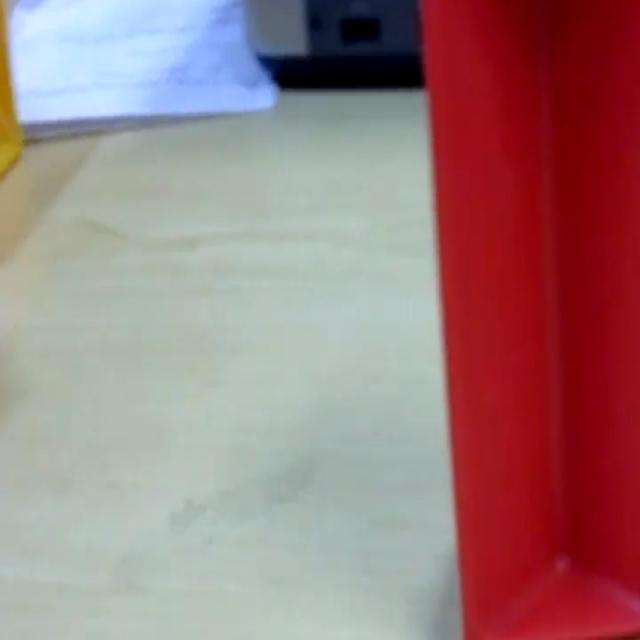red_block: (418, 0, 638, 636)
yellow_block: (0, 0, 24, 177)
